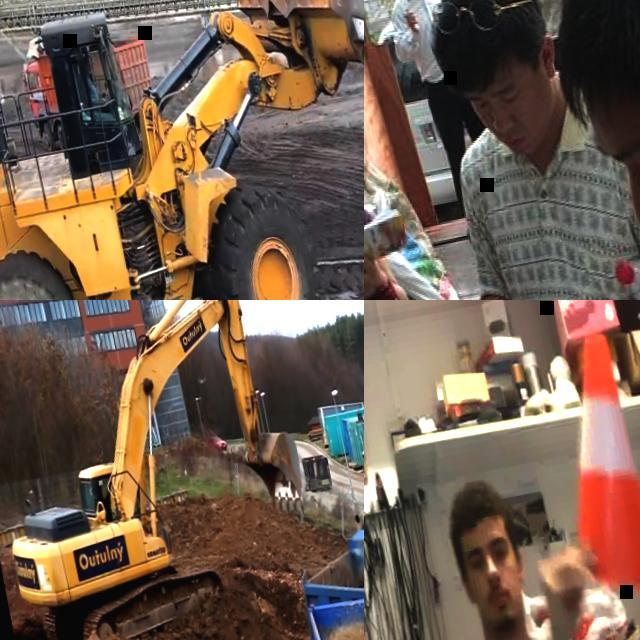Robbery: (430, 4, 619, 299), (445, 468, 582, 640), (390, 0, 497, 219), (553, 3, 640, 202)
